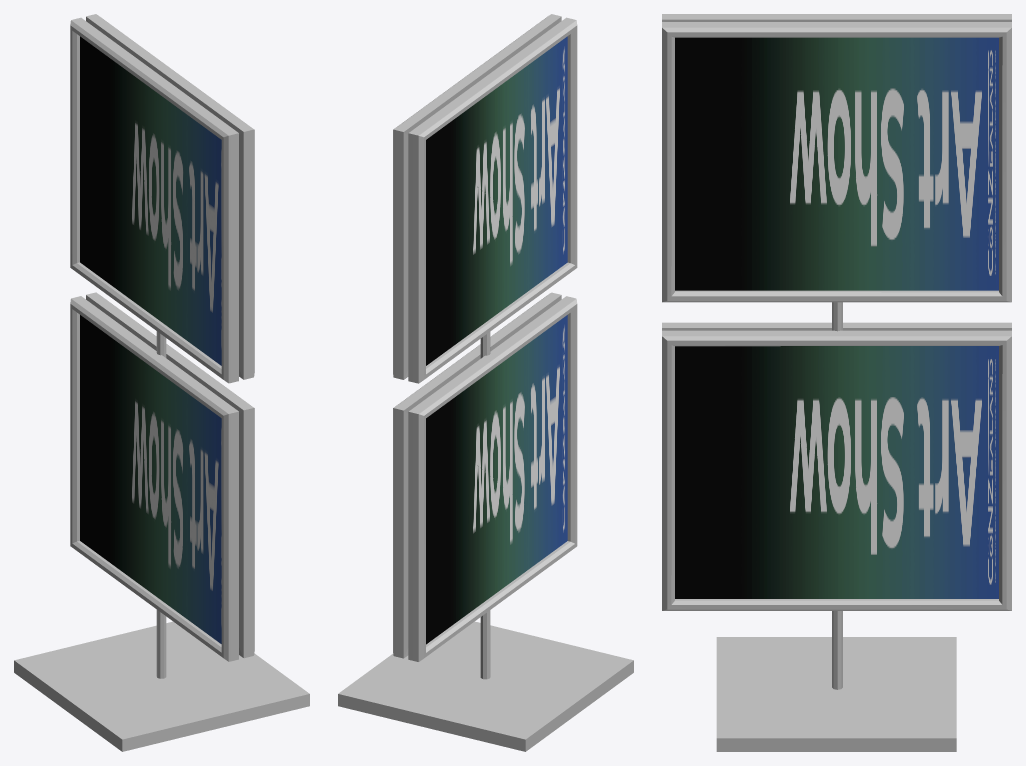
Rendered from sign-twin.obj.
The picture shows the model from 3 angles, left to right: view 1: azimuth 30°, elevation 25°; view 2: azimuth 150°, elevation 25°; view 3: azimuth 270°, elevation 25°; orthographic projection. The views are drawn at different scales.
Visible parts, largest first — view 1: sign3; view 2: sign3; view 3: sign3.
Part boxes in pixels (<box>): sign3: <box>14,14,309,751</box>; sign3: <box>338,14,633,751</box>; sign3: <box>662,14,1011,751</box>.
Size of the model in its own units: 1.25 by 3.92 by 1.83.
